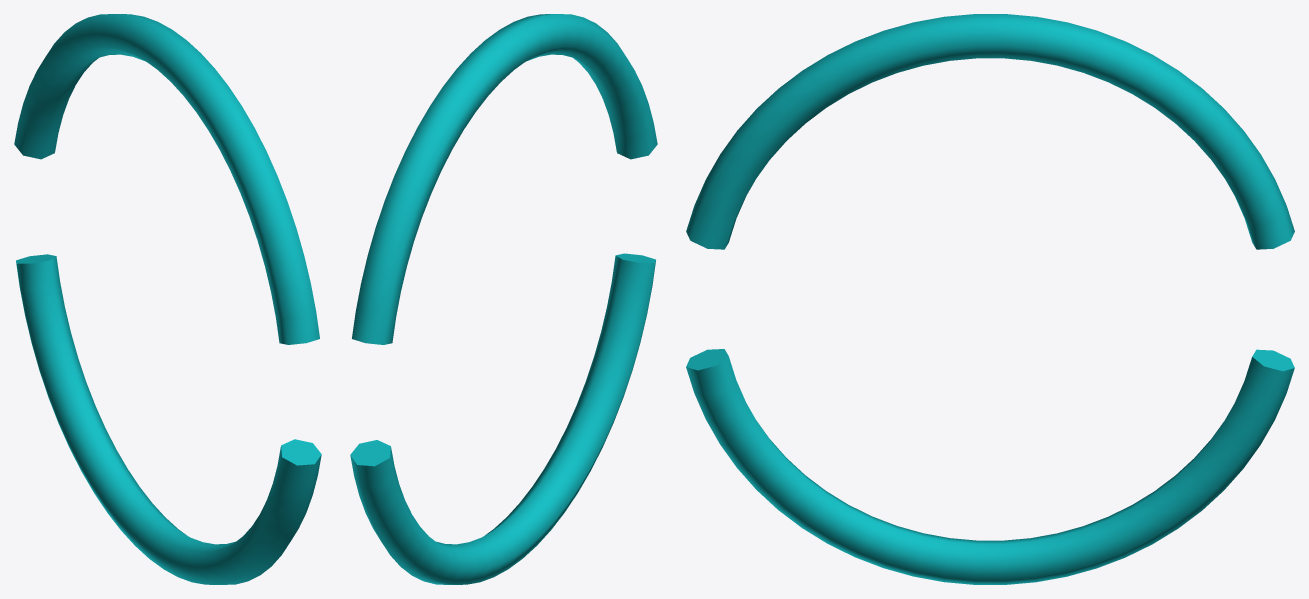
File: camera_teal.obj
The picture shows the model from 3 angles, left to right: view 1: azimuth 30°, elevation 25°; view 2: azimuth 150°, elevation 25°; view 3: azimuth 270°, elevation 25°; orthographic projection. The views are drawn at different scales.
Visible parts, largest first — view 1: camera_teal; view 2: camera_teal; view 3: camera_teal.
Part boxes in pixels (<box>): camera_teal: <box>14,14,321,584</box>; camera_teal: <box>350,14,657,584</box>; camera_teal: <box>686,14,1294,584</box>.
Size of the model in its own units: 0.0016 by 0.0219 by 0.0214.
